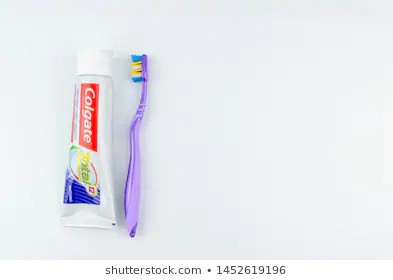colgate-total-150gm: (56, 43, 123, 231)
toothbrush: (119, 48, 156, 239)
